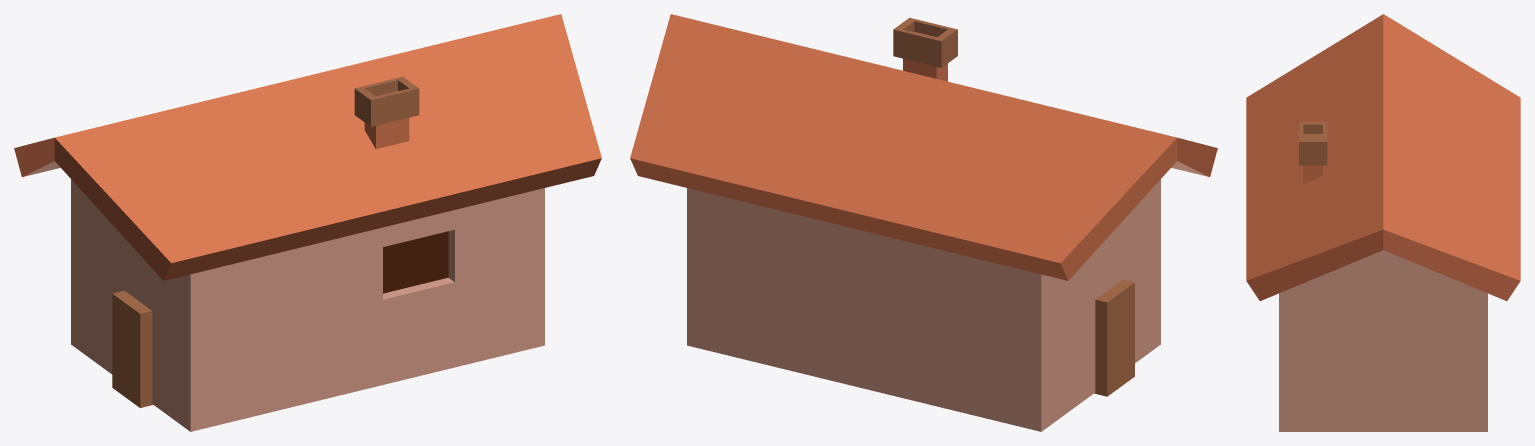
File: House1.fbx
The picture shows the model from 3 angles, left to right: view 1: azimuth 30°, elevation 25°; view 2: azimuth 150°, elevation 25°; view 3: azimuth 270°, elevation 25°; orthographic projection. The views are drawn at different scales.
Visible parts, largest first — view 1: pasted__pCube205; view 2: pasted__pCube205; view 3: pasted__pCube205.
Boxes of the visible parts, box(x1,y1,x2,y2) form: pasted__pCube205: box(14, 14, 601, 431); pasted__pCube205: box(630, 14, 1217, 431); pasted__pCube205: box(1246, 14, 1520, 431).
Bounding box in the file's own units: 25.26 × 13.23 × 13.59.
